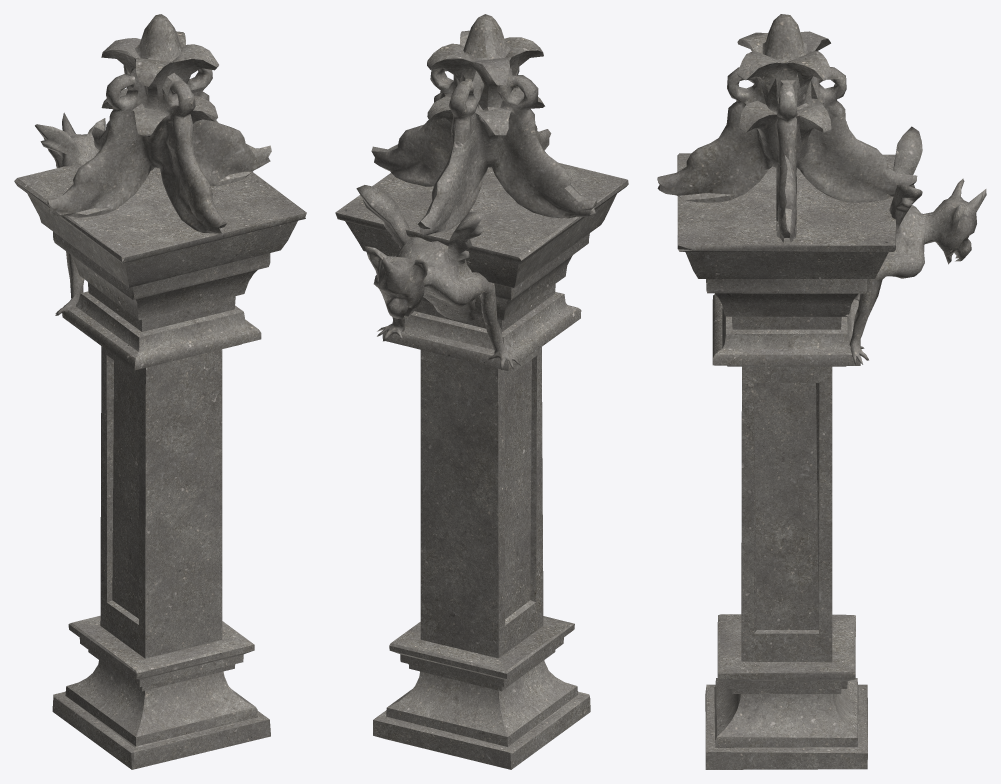
Rendered from SM_Railing_Pillar_01.fbx.
3 renders of one model, left to right at view 1: azimuth 30°, elevation 25°; view 2: azimuth 150°, elevation 25°; view 3: azimuth 270°, elevation 25°, orthographic.
Visible parts, largest first — view 1: SM_Railing_Pillar_01_LOD0; view 2: SM_Railing_Pillar_01_LOD0; view 3: SM_Railing_Pillar_01_LOD0.
Part boxes in pixels (x1,y1,x2,y2): SM_Railing_Pillar_01_LOD0: (14,14,306,769); SM_Railing_Pillar_01_LOD0: (335,14,628,769); SM_Railing_Pillar_01_LOD0: (657,14,986,769).
Size of the model in its own units: 73.46 by 92.55 by 223.
